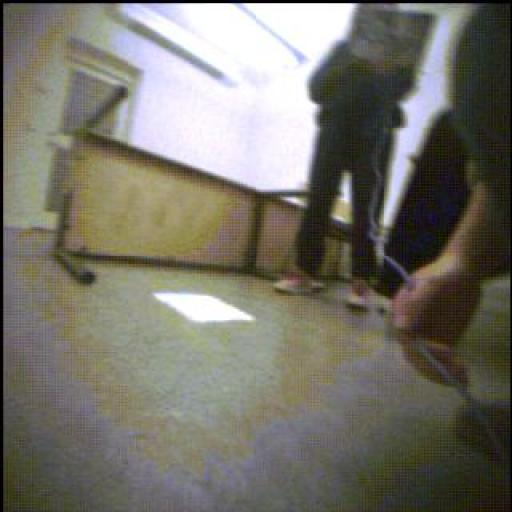Pad: (148, 297, 252, 328)
